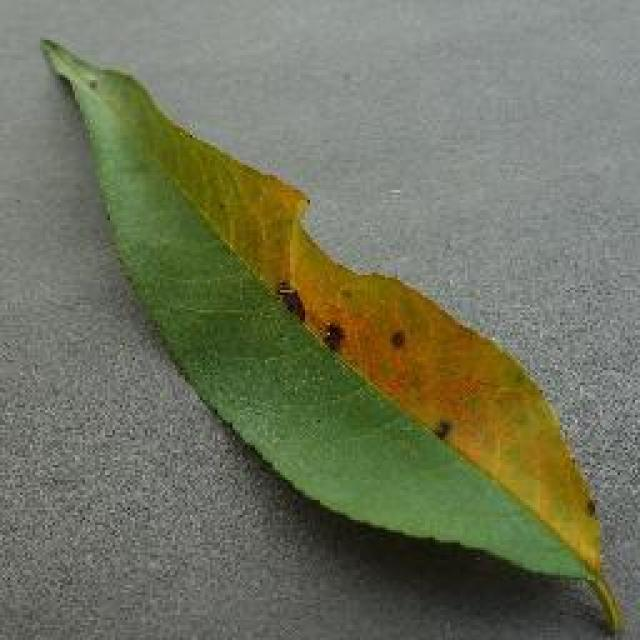Peach_Bacterial_Spot: (288, 227, 520, 465)
